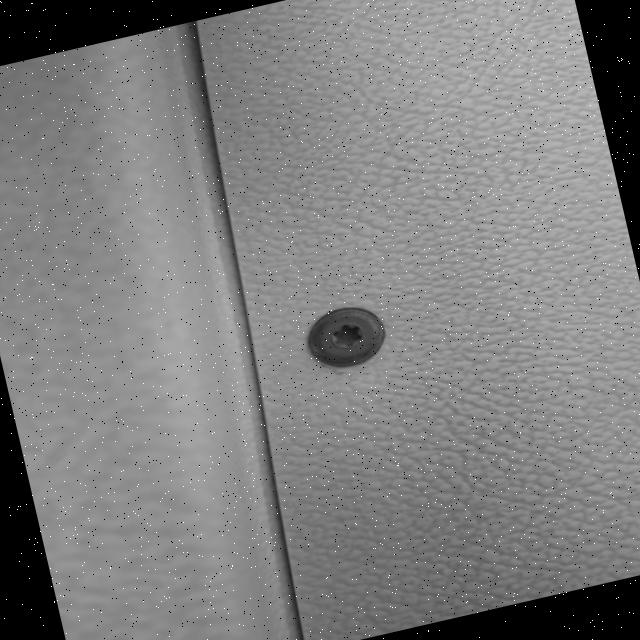Torx: (297, 300, 389, 380)
